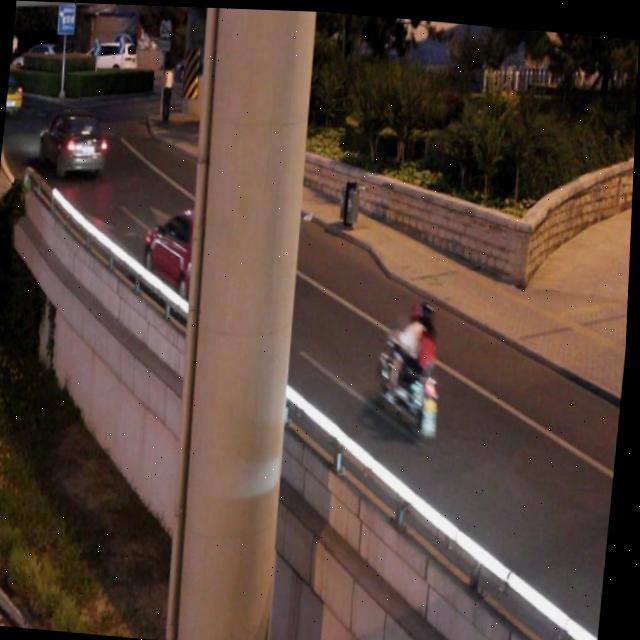car: (144, 204, 227, 294), (40, 111, 109, 174), (7, 68, 25, 115)
